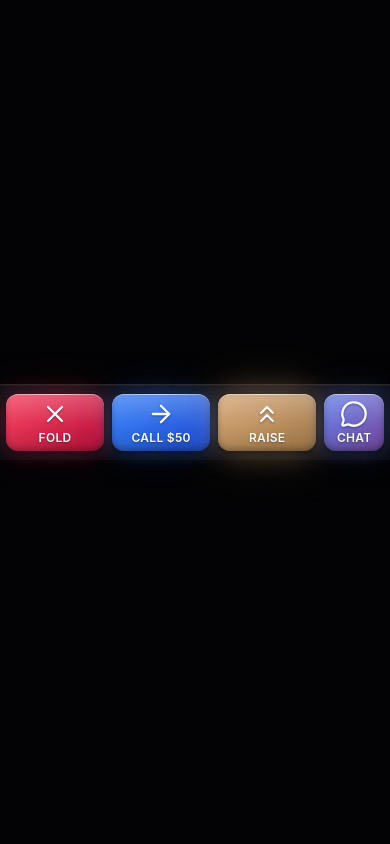
Test: VT-02: MobileActionButtons raise sheet — calculations and interactions › clicking Raise button opens the raise sheet
Note: Click the Raise button
Click the button "Raise". click: (267, 422)
box: [218,394,316,451]
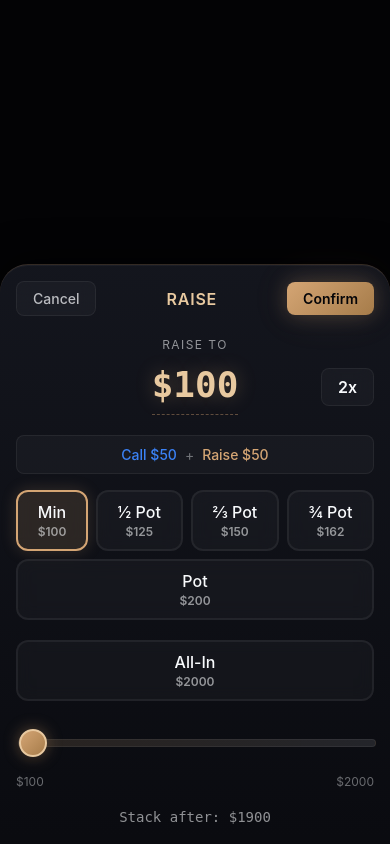
expect the element with class "mobile-raise-sheet" is shown: met
expect the button "Fold" is gone: met
